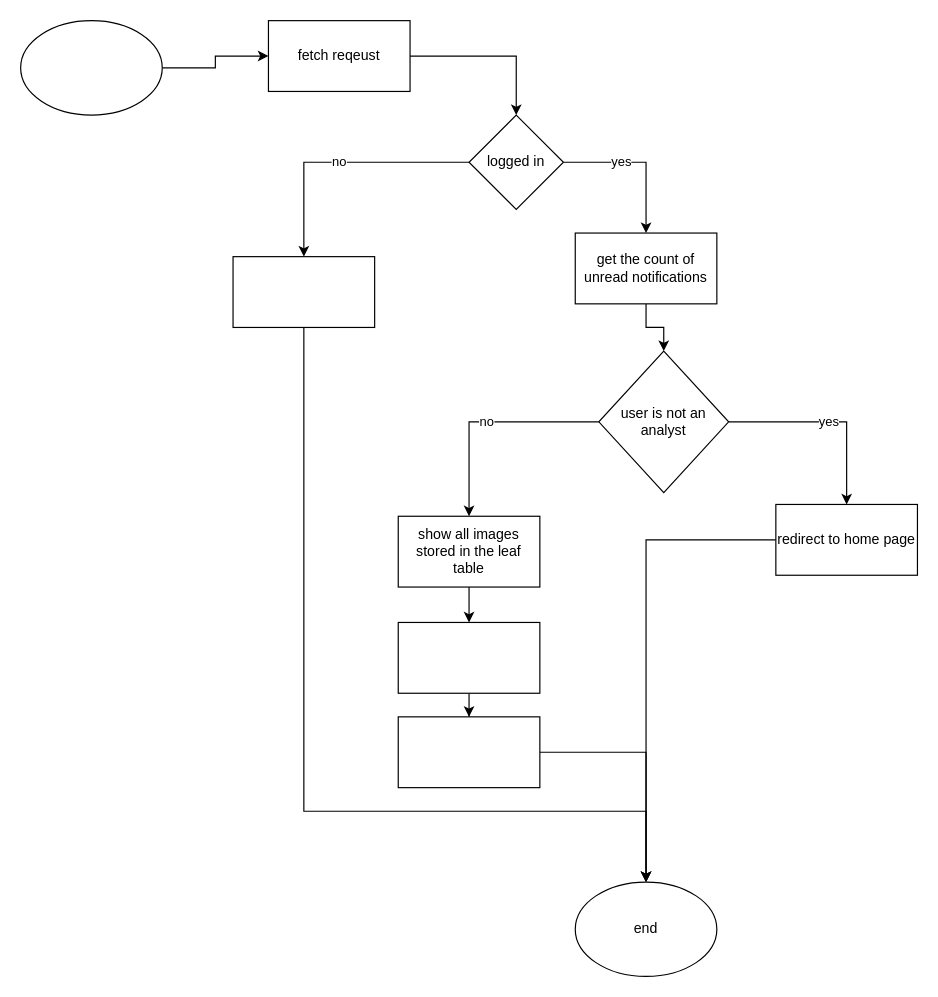
The diagram is 938 pixels wide and 997 high, and some of its shapes have lost their labels. The centre of each missing label's shape, as x and y in pixels:
"redirect to login page" goes at pixel 303 291.
"render show all page" goes at pixel 468 752.
"select correct diagnosis for the leaves" goes at pixel 468 657.
"start" goes at pixel 90 67.
